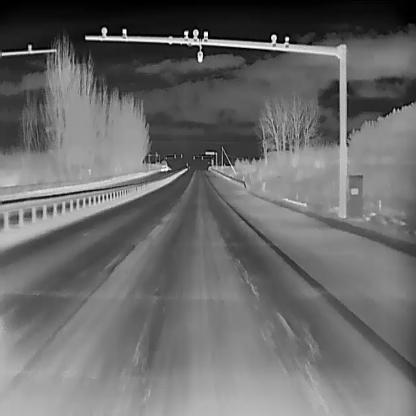car: (160, 159, 168, 172)
